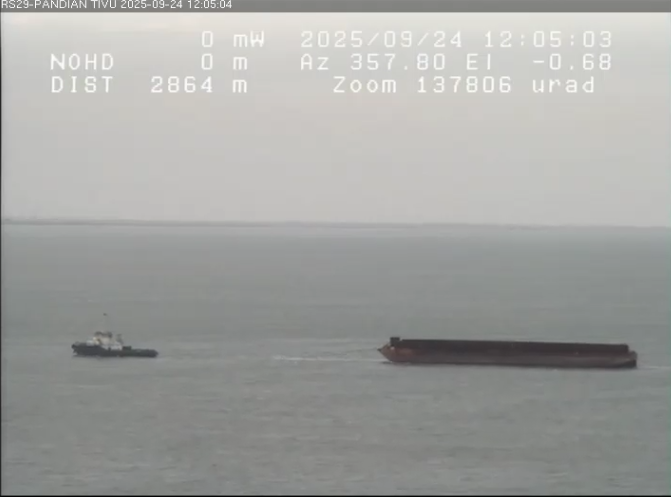BARGE: (323, 313, 654, 386)
OFFSHORE_SUPPLY_VESSEL: (51, 296, 175, 379)
TOWING: (27, 266, 668, 437)
